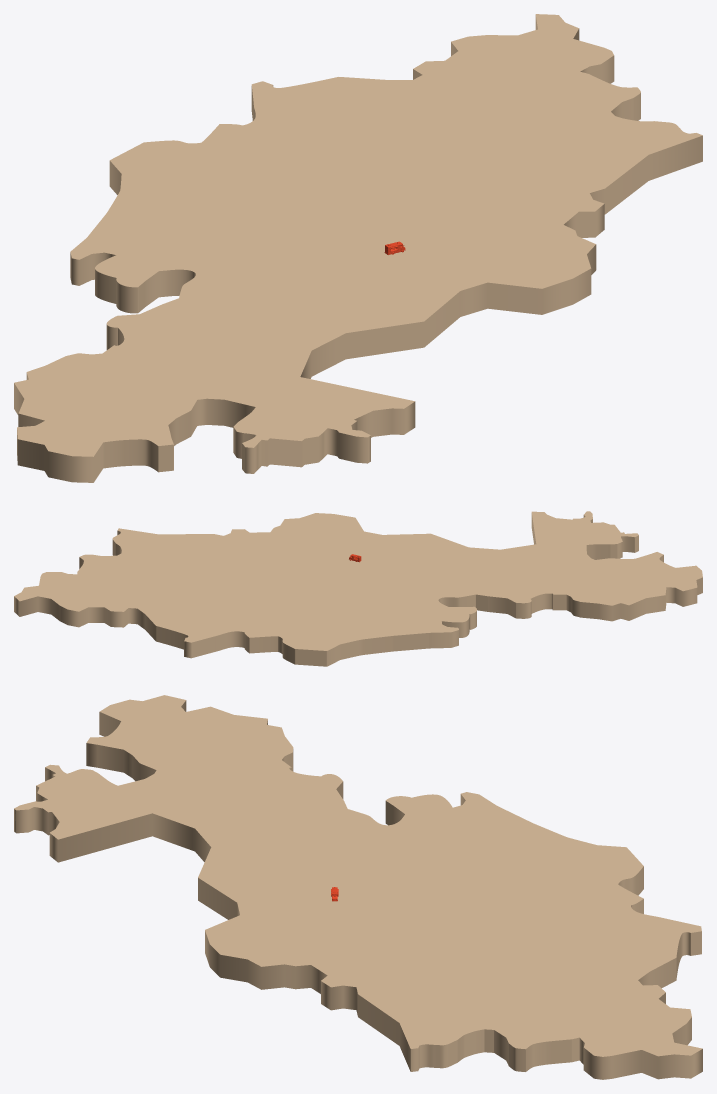
File: track-blend.glb
The picture shows the model from 3 angles, top to bottom: view 1: azimuth 30°, elevation 25°; view 2: azimuth 150°, elevation 25°; view 3: azimuth 270°, elevation 25°; orthographic projection. The views are drawn at different scales.
Parts seen in each view (by area): view 1: Curve; view 2: Curve; view 3: Curve.
Boxes of the visible parts, x1,y1,x2,y2 form: Curve: [14, 14, 702, 482]; Curve: [14, 511, 702, 666]; Curve: [14, 695, 702, 1079].
Size of what is drawn, in the model's own units: 6.87 by 0.2789 by 5.52.
